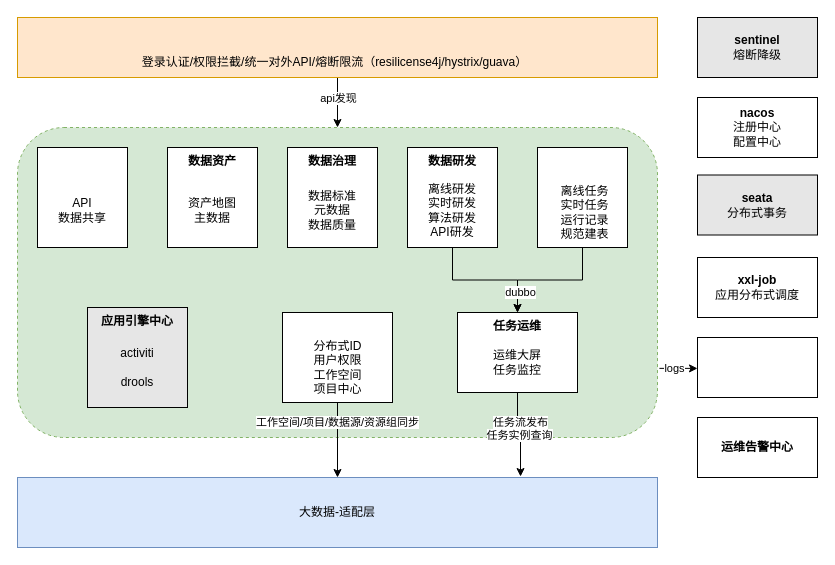
Image size: 835x565. Some labels were removed from this diagram. The box of each missing label's shape, as (x1, y1, x2, y2) in pixels:
gateway网关: (16, 16, 658, 78)
基础服务: (282, 312, 392, 402)
数据集成: (536, 146, 628, 248)
数智服务: (36, 146, 128, 248)
日志中心: (696, 336, 818, 398)
